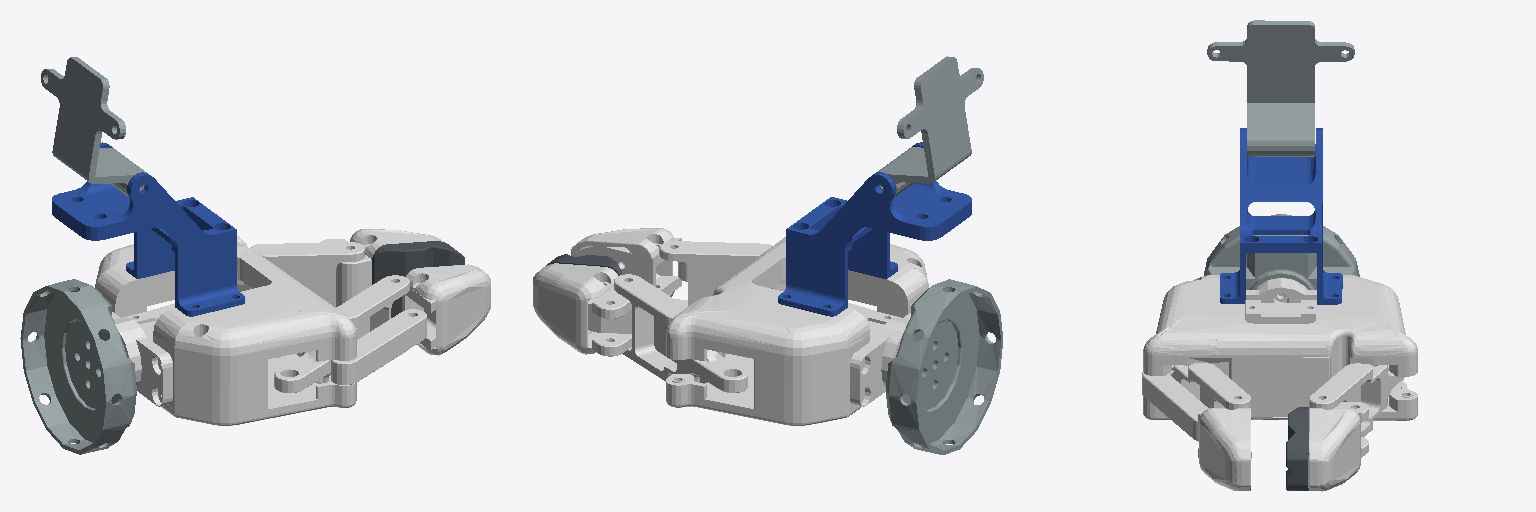
The robot description file, URDF, robot "pincopen":
<?xml version="1.0" ?>
<robot name="pincopen">
    <link name="Bottom_Plate">
        <inertial>
            <mass value="2.64077e-05" />
            <origin xyz="-0.0285975 -3.86746e-05 -0.00842464" rpy="0 -0 0" />
            <inertia ixx="1.66707e-08" ixy="-2.32762e-10" ixz="3.50141e-10" iyy="9.68705e-09" iyz="2.44722e-12" izz="2.54703e-08" />
        </inertial>
        <visual>
            <origin xyz="0 0 0" rpy="0 -0 0" />
            <geometry>
                <mesh filename="package://pincopen/meshes/107.stl" scale="1 1 1" />
            </geometry>
            <material name="0.901961_0.901961_0.901961_0.000000_0.000000">
                <texture />
                <color rgba="0.901961 0.901961 0.901961 1" />
            </material>
        </visual>
    </link>
    <link name="Cam">
        <inertial>
            <mass value="4.57688e-06" />
            <origin xyz="-9.28675e-06 -1.26037e-06 0.00337664" rpy="0 -0 0" />
            <inertia ixx="3.23524e-10" ixy="5.23411e-12" ixz="-1.82883e-13" iyy="3.37156e-10" iyz="-1.62277e-15" izz="6.28236e-10" />
        </inertial>
        <visual>
            <origin xyz="0.0180424 -1.68389e-19 0.0024" rpy="0 -0 0" />
            <geometry>
                <mesh filename="package://pincopen/meshes/59.stl" scale="1 1 1" />
            </geometry>
            <material name="0.901961_0.901961_0.901961_0.000000_0.000000">
                <texture />
                <color rgba="0.901961 0.901961 0.901961 1" />
            </material>
        </visual>
    </link>
    <link name="Camera_basement">
        <inertial>
            <mass value="1.03417e-05" />
            <origin xyz="-0.0227674 -0.01891 0.026605" rpy="0 -0 0" />
            <inertia ixx="2.7023e-09" ixy="0" ixz="1.26307e-09" iyy="3.70962e-09" iyz="0" izz="3.44793e-09" />
        </inertial>
        <visual>
            <origin xyz="0.0262674 -0.01891 -0.0195" rpy="0 -0 0" />
            <geometry>
                <mesh filename="package://pincopen/meshes/115.stl" scale="1 1 1" />
            </geometry>
            <material name="0.231373_0.380392_0.705882_0.000000_0.000000">
                <texture />
                <color rgba="0.231373 0.380392 0.705882 1" />
            </material>
        </visual>
    </link>
    <link name="Camera_mount_V1">
        <inertial>
            <mass value="4.99029e-06" />
            <origin xyz="-0.0118 -0.0113361 0.0107692" rpy="0 -0 0" />
            <inertia ixx="1.12849e-09" ixy="0" ixz="0" iyy="1.08544e-09" iyz="4.03343e-10" izz="7.36976e-10" />
        </inertial>
        <visual>
            <origin xyz="-0.0236 -0.0178508 0.00417309" rpy="0 -0 0" />
            <geometry>
                <mesh filename="package://pincopen/meshes/91.stl" scale="1 1 1" />
            </geometry>
            <material name="0.611765_0.658824_0.670588_0.000000_0.000000">
                <texture />
                <color rgba="0.611765 0.658824 0.670588 1" />
            </material>
        </visual>
    </link>
    <link name="Distal_Rod">
        <inertial>
            <mass value="2.94447e-06" />
            <origin xyz="0.00258376 -0.00352926 -0.0086" rpy="0 -0 0" />
            <inertia ixx="1.48021e-10" ixy="-4.56607e-12" ixz="0" iyy="1.31579e-10" iyz="0" izz="1.29893e-10" />
        </inertial>
        <visual>
            <origin xyz="-0.034641 0.0125 -0.0086" rpy="0 -0 0" />
            <geometry>
                <mesh filename="package://pincopen/meshes/63.stl" scale="1 1 1" />
            </geometry>
            <material name="0.901961_0.901961_0.901961_0.000000_0.000000">
                <texture />
                <color rgba="0.901961 0.901961 0.901961 1" />
            </material>
        </visual>
    </link>
    <link name="Distal_Rod_1">
        <inertial>
            <mass value="2.94447e-06" />
            <origin xyz="0.00258376 -0.00352926 0.0086" rpy="0 -0 0" />
            <inertia ixx="1.48021e-10" ixy="-4.56607e-12" ixz="0" iyy="1.31579e-10" iyz="0" izz="1.29893e-10" />
        </inertial>
        <visual>
            <origin xyz="-0.034641 0.0125 0.0086" rpy="0 -0 0" />
            <geometry>
                <mesh filename="package://pincopen/meshes/71.stl" scale="1 1 1" />
            </geometry>
            <material name="0.901961_0.901961_0.901961_0.000000_0.000000">
                <texture />
                <color rgba="0.901961 0.901961 0.901961 1" />
            </material>
        </visual>
    </link>
    <link name="Distal_Shell">
        <inertial>
            <mass value="2.99979e-06" />
            <origin xyz="0.0114078 -0.00154986 0.0087724" rpy="0 -0 0" />
            <inertia ixx="2.91332e-10" ixy="-4.3648e-11" ixz="-4.43435e-13" iyy="4.19946e-10" iyz="1.23129e-13" izz="2.76829e-10" />
        </inertial>
        <visual>
            <origin xyz="-0.042891 0.01475 0.0088" rpy="0 -0 0" />
            <geometry>
                <mesh filename="package://pincopen/meshes/67.stl" scale="1 1 1" />
            </geometry>
            <material name="0.901961_0.901961_0.901961_0.000000_0.000000">
                <texture />
                <color rgba="0.901961 0.901961 0.901961 1" />
            </material>
        </visual>
    </link>
    <link name="Distal_Shell_1">
        <inertial>
            <mass value="2.99979e-06" />
            <origin xyz="0.0114078 -0.00154986 -0.0088276" rpy="0 -0 0" />
            <inertia ixx="2.91332e-10" ixy="-4.3648e-11" ixz="-4.43435e-13" iyy="4.19946e-10" iyz="1.23129e-13" izz="2.76829e-10" />
        </inertial>
        <visual>
            <origin xyz="-0.042891 0.01475 -0.0088" rpy="0 -0 0" />
            <geometry>
                <mesh filename="package://pincopen/meshes/75.stl" scale="1 1 1" />
            </geometry>
            <material name="0.901961_0.901961_0.901961_0.000000_0.000000">
                <texture />
                <color rgba="0.901961 0.901961 0.901961 1" />
            </material>
        </visual>
    </link>
    <link name="External_Rod">
        <inertial>
            <mass value="3.24652e-06" />
            <origin xyz="0.0173205 0.01 0.004" rpy="0 -0 0" />
            <inertia ixx="1.76941e-10" ixy="-2.38948e-10" ixz="0" iyy="4.52855e-10" iyz="0" izz="5.95358e-10" />
        </inertial>
        <visual>
            <origin xyz="-5.85469e-18 0.044 0.004" rpy="0 -0 0" />
            <geometry>
                <mesh filename="package://pincopen/meshes/79.stl" scale="1 1 1" />
            </geometry>
            <material name="0.901961_0.901961_0.901961_0.000000_0.000000">
                <texture />
                <color rgba="0.901961 0.901961 0.901961 1" />
            </material>
        </visual>
    </link>
    <link name="External_Rod_1">
        <inertial>
            <mass value="3.24652e-06" />
            <origin xyz="0.0173205 0.01 0.004" rpy="0 -0 0" />
            <inertia ixx="1.76941e-10" ixy="-2.38948e-10" ixz="0" iyy="4.52855e-10" iyz="0" izz="5.95358e-10" />
        </inertial>
        <visual>
            <origin xyz="-5.85469e-18 0.044 0.004" rpy="0 -0 0" />
            <geometry>
                <mesh filename="package://pincopen/meshes/119.stl" scale="1 1 1" />
            </geometry>
            <material name="0.901961_0.901961_0.901961_0.000000_0.000000">
                <texture />
                <color rgba="0.901961 0.901961 0.901961 1" />
            </material>
        </visual>
    </link>
    <link name="Hand_adaptor_plate">
        <inertial>
            <mass value="1.31786e-05" />
            <origin xyz="8.42872e-10 7.36259e-14 0.00908637" rpy="0 -0 0" />
            <inertia ixx="2.70924e-09" ixy="0" ixz="0" iyy="2.70924e-09" iyz="0" izz="5.07111e-09" />
        </inertial>
        <visual>
            <origin xyz="0 0 0.0022" rpy="0 -0 0" />
            <geometry>
                <mesh filename="package://pincopen/meshes/111.stl" scale="1 1 1" />
            </geometry>
            <material name="0.611765_0.658824_0.670588_0.000000_0.000000">
                <texture />
                <color rgba="0.611765 0.658824 0.670588 1" />
            </material>
        </visual>
    </link>
    <link name="Interface_ARM100">
        <inertial>
            <mass value="4.50805e-06" />
            <origin xyz="-0.00310064 -0.022 -0.0056" rpy="0 -0 0" />
            <inertia ixx="8.39871e-10" ixy="0" ixz="0" iyy="1.80669e-10" iyz="0" izz="6.98926e-10" />
        </inertial>
        <visual>
            <origin xyz="0.0534924 -0.022 -0.0056" rpy="0 -0 0" />
            <geometry>
                <mesh filename="package://pincopen/meshes/87.stl" scale="1 1 1" />
            </geometry>
            <material name="0.901961_0.901961_0.901961_0.000000_0.000000">
                <texture />
                <color rgba="0.901961 0.901961 0.901961 1" />
            </material>
        </visual>
    </link>
    <link name="Internal_Rod">
        <inertial>
            <mass value="5.56038e-06" />
            <origin xyz="0.0101857 0.0065898 -0.008" rpy="0 -0 0" />
            <inertia ixx="7.4517e-10" ixy="-6.80859e-10" ixz="0" iyy="1.47198e-09" iyz="0" izz="1.63473e-09" />
        </inertial>
        <visual>
            <origin xyz="0 0.0325 -0.008" rpy="0 -0 0" />
            <geometry>
                <mesh filename="package://pincopen/meshes/103.stl" scale="1 1 1" />
            </geometry>
            <material name="0.901961_0.901961_0.901961_0.000000_0.000000">
                <texture />
                <color rgba="0.901961 0.901961 0.901961 1" />
            </material>
        </visual>
    </link>
    <link name="Internal_Rod_1">
        <inertial>
            <mass value="5.56038e-06" />
            <origin xyz="0.0101857 0.0065898 0.008" rpy="0 -0 0" />
            <inertia ixx="7.4517e-10" ixy="-6.80859e-10" ixz="0" iyy="1.47198e-09" iyz="0" izz="1.63473e-09" />
        </inertial>
        <visual>
            <origin xyz="0 0.0325 0.008" rpy="0 -0 0" />
            <geometry>
                <mesh filename="package://pincopen/meshes/103.stl" scale="1 1 1" />
            </geometry>
            <material name="0.901961_0.901961_0.901961_0.000000_0.000000">
                <texture />
                <color rgba="0.901961 0.901961 0.901961 1" />
            </material>
        </visual>
    </link>
    <link name="Removable_Tip">
        <inertial>
            <mass value="2.43081e-06" />
            <origin xyz="0.00745849 0.0018564 0.0049" rpy="0 -0 0" />
            <inertia ixx="1.32566e-10" ixy="-4.39011e-11" ixz="0" iyy="2.28981e-10" iyz="0" izz="2.04701e-10" />
        </inertial>
        <visual>
            <origin xyz="-0.042891 0.01475 0.0049" rpy="0 -0 0" />
            <geometry>
                <mesh filename="package://pincopen/meshes/83.stl" scale="1 1 1" />
            </geometry>
            <material name="0.901961_0.901961_0.901961_0.000000_0.000000">
                <texture />
                <color rgba="0.901961 0.901961 0.901961 1" />
            </material>
        </visual>
    </link>
    <link name="Removable_Tip_1">
        <inertial>
            <mass value="2.43081e-06" />
            <origin xyz="0.00745849 0.0018564 -0.0049" rpy="0 -0 0" />
            <inertia ixx="1.32566e-10" ixy="-4.39011e-11" ixz="0" iyy="2.28981e-10" iyz="0" izz="2.04701e-10" />
        </inertial>
        <visual>
            <origin xyz="-0.042891 0.01475 -0.0049" rpy="0 -0 0" />
            <geometry>
                <mesh filename="package://pincopen/meshes/123.stl" scale="1 1 1" />
            </geometry>
            <material name="0.901961_0.901961_0.901961_0.000000_0.000000">
                <texture />
                <color rgba="0.901961 0.901961 0.901961 1" />
            </material>
        </visual>
    </link>
    <link name="Tip_Support">
        <inertial>
            <mass value="4.01227e-06" />
            <origin xyz="0.00385164 0.0032358 0.00350015" rpy="0 -0 0" />
            <inertia ixx="1.88606e-10" ixy="-1.05379e-11" ixz="6.06891e-15" iyy="4.29106e-10" iyz="0" izz="2.7268e-10" />
        </inertial>
        <visual>
            <origin xyz="-0.051641 0.00775 0.0035" rpy="0 -0 0" />
            <geometry>
                <mesh filename="package://pincopen/meshes/95.stl" scale="1 1 1" />
            </geometry>
            <material name="0.349020_0.376471_0.400000_0.000000_0.000000">
                <texture />
                <color rgba="0.34902 0.376471 0.4 1" />
            </material>
        </visual>
    </link>
    <link name="Tip_Support_1">
        <inertial>
            <mass value="4.01227e-06" />
            <origin xyz="0.00385164 0.0032358 -0.00349985" rpy="0 -0 0" />
            <inertia ixx="1.88606e-10" ixy="-1.05379e-11" ixz="6.06891e-15" iyy="4.29106e-10" iyz="0" izz="2.7268e-10" />
        </inertial>
        <visual>
            <origin xyz="-0.051641 0.00775 -0.0035" rpy="0 -0 0" />
            <geometry>
                <mesh filename="package://pincopen/meshes/99.stl" scale="1 1 1" />
            </geometry>
            <material name="0.349020_0.376471_0.400000_0.000000_0.000000">
                <texture />
                <color rgba="0.34902 0.376471 0.4 1" />
            </material>
        </visual>
    </link>
    <link name="Top_Plate">
        <inertial>
            <mass value="4.1723e-05" />
            <origin xyz="-0.0250553 -0.0219874 0.0121429" rpy="0 -0 0" />
            <inertia ixx="3.18172e-08" ixy="4.00954e-10" ixz="-1.11237e-09" iyy="1.34468e-08" iyz="2.37512e-12" izz="4.33741e-08" />
        </inertial>
        <visual>
            <origin xyz="4.24018e-05 -0.022 0" rpy="0 -0 0" />
            <geometry>
                <mesh filename="package://pincopen/meshes/127.stl" scale="1 1 1" />
            </geometry>
            <material name="0.901961_0.901961_0.901961_0.000000_0.000000">
                <texture />
                <color rgba="0.901961 0.901961 0.901961 1" />
            </material>
        </visual>
    </link>
    <link name="root" />
    
    <joint name="Fastened 11_0" type="fixed">
        <origin xyz="-0.026225 -0.00309 0.0195" rpy="0 0 -2.3332e-16" />
        <axis xyz="0 0 1" />
        <parent link="Top_Plate" />
        <child link="Camera_basement" />
    </joint>
    <joint name="Fastened 12_0" type="fixed">
        <origin xyz="-0.05345 3.46945e-18 0.0056" rpy="0 -0 0" />
        <axis xyz="1 0 0" />
        <parent link="Top_Plate" />
        <child link="Interface_ARM100" />
    </joint>
    <joint name="Fastened 13_0" type="fixed">
        <origin xyz="-0.00711658 -0.022 -0.0056" rpy="0 1.5708 3.14159" />
        <axis xyz="0 0 -1" />
        <parent link="Interface_ARM100" />
        <child link="Hand_adaptor_plate" />
    </joint>
    <joint name="Fastened 14_0" type="fixed">
        <origin xyz="-0.031885 -0.03091 0.0462" rpy="-0.174533 8.74301e-16 -1.5708" />
        <axis xyz="1 0 0" />
        <parent link="Camera_basement" />
        <child link="Camera_mount_V1" />
    </joint>
    <joint name="Fastened 1_0" type="fixed">
        <origin xyz="0.00825 -0.00225 -0.0038" rpy="1.61527e-33 -7.28135e-31 -2.75474e-15" />
        <axis xyz="0 0 -1" />
        <parent link="Distal_Rod" />
        <child link="Removable_Tip_1" />
    </joint>
    <joint name="Fastened 3_0" type="fixed">
        <origin xyz="0.00875 0.007 -0.0014" rpy="-6.13068e-46 9.40395e-38 -5.29091e-17" />
        <axis xyz="5.29687e-17 -1 0" />
        <parent link="Removable_Tip_1" />
        <child link="Tip_Support_1" />
    </joint>
    <joint name="Fastened 4_0" type="fixed">
        <origin xyz="6.93889e-18 0 0.0037" rpy="1.3954e-32 -2.47818e-16 -8.67362e-19" />
        <axis xyz="-2.47818e-16 -1.39803e-32 -1" />
        <parent link="Removable_Tip_1" />
        <child link="Distal_Shell_1" />
    </joint>
    <joint name="Fastened 5_0" type="fixed">
        <origin xyz="0.00825 -0.00225 0.0038" rpy="-2.58845e-31 -9.86076e-32 2.23346e-16" />
        <axis xyz="0 0 -1" />
        <parent link="Distal_Rod_1" />
        <child link="Removable_Tip" />
    </joint>
    <joint name="Fastened 7_0" type="fixed">
        <origin xyz="0.00875 0.007 0.0014" rpy="1.2326e-32 -4.93038e-32 -5.33427e-17" />
        <axis xyz="-5.29687e-17 1 0" />
        <parent link="Removable_Tip" />
        <child link="Tip_Support" />
    </joint>
    <joint name="Fastened 8_0" type="fixed">
        <origin xyz="1.73472e-18 -1.04083e-17 -0.0037" rpy="-5.37369e-35 2.47818e-16 -4.33681e-19" />
        <axis xyz="-2.47818e-16 -1.39803e-32 1" />
        <parent link="Removable_Tip" />
        <child link="Distal_Shell" />
    </joint>
    <joint name="Fastened 9_0" type="fixed">
        <origin xyz="-4.24018e-05 0.022 3.46945e-18" rpy="0 -0 0" />
        <axis xyz="0 0 1" />
        <parent link="Bottom_Plate" />
        <child link="Top_Plate" />
    </joint>
    <joint name="fixed_node_to_root_joint_0" type="fixed">
        <origin xyz="-0.0344723 -0.000941051 0.0215543" rpy="0 0 -0.00444985" />
        <axis xyz="0 0 1" />
        <parent link="root" />
        <child link="Bottom_Plate" />
    </joint>

    <joint name="cam_joint" type="revolute">
        <origin xyz="-0.0180424 2.60209e-18 -0.0035" rpy="6.47546e-16 7.23081e-16 -1.50657" />
        <axis xyz="0 0 -1" />
        <parent link="Bottom_Plate" />
        <child link="Cam" />
        <limit effort="10" velocity="2.0" lower="-0.57" upper="0.0" />
    </joint>

    <joint name="Revolute 2_0" type="revolute">
        <origin xyz="-6.93889e-18 -0.0325 -0.0088" rpy="1.18038e-16 2.71062e-16 -0.0642296" />
        <axis xyz="0 0 -1" />
        <parent link="Bottom_Plate" />
        <child link="Internal_Rod_1" />
        <mimic joint="cam_joint" multiplier="-1.0" offset="0" />
        <limit effort="10" velocity="2.0" lower="-1.57" upper="1.57" />
    </joint>
    
    <joint name="Revolute 4_0" type="revolute">
        <origin xyz="6.93889e-18 -0.044 -0.0042" rpy="2.50273e-31 -1.62999e-30 -0.0642296" />
        <axis xyz="0 0 1" />
        <parent link="Bottom_Plate" />
        <child link="External_Rod_1" />
        <mimic joint="cam_joint" multiplier="1.0" offset="0" />
        <limit effort="10" velocity="2.0" lower="-1.57" upper="1.57" />
    </joint>

    <joint name="Revolute 5_0" type="revolute">
        <origin xyz="0.034641 0.02 0.0165" rpy="-1.35194e-16 -2.62928e-16 0.0642296" />
        <axis xyz="0 0 1" />
        <parent link="Internal_Rod_1" />
        <child link="Distal_Rod" />
        <mimic joint="cam_joint" multiplier="-1.0" offset="0" />
        <limit effort="10" velocity="2.0" lower="-1.57" upper="1.57" />
    </joint>

    <joint name="Revolute 3_0" type="revolute">
        <origin xyz="-6.93889e-18 0.0325 -0.0088" rpy="3.14159 2.74963e-16 0.0642296" />
        <axis xyz="0 0 1" />
        <parent link="Bottom_Plate" />
        <child link="Internal_Rod" />
        <mimic joint="cam_joint" multiplier="1.0" offset="0" />
        <limit effort="10" velocity="2.0" lower="-1.57" upper="1.57" />
    </joint>

    <joint name="Revolute 6_0" type="revolute">
        <origin xyz="6.93889e-18 0.044 -0.0042" rpy="-3.01726e-16 2.73219e-17 -0.982968" />
        <axis xyz="0 0 1" />
        <parent link="Bottom_Plate" />
        <child link="External_Rod" />
        <mimic joint="cam_joint" multiplier="-1.0" offset="0" />
        <limit effort="10" velocity="2.0" lower="-1.57" upper="1.57" />
    </joint>

    <joint name="Revolute 7_0" type="revolute">
        <origin xyz="0.034641 0.02 -0.0165" rpy="2.46519e-32 -7.91963e-34 0.0642296" />
        <axis xyz="0 0 -1" />
        <parent link="Internal_Rod" />
        <child link="Distal_Rod_1" />
        <mimic joint="cam_joint" multiplier="1.0" offset="0" />
        <limit effort="10" velocity="2.0" lower="-1.57" upper="1.57" />
    </joint>

</robot>

--- Facts derived from the render (not from the file) ---
The picture shows the robot from 3 angles, left to right: view 1: azimuth 30°, elevation 25°; view 2: azimuth 150°, elevation 25°; view 3: azimuth 270°, elevation 25°; orthographic projection.
Model pincopen with 20 links and 19 joints (7 revolute, 12 fixed), rooted at root, posed every joint at zero.
Visible links, largest first — view 1: Top_Plate, Hand_adaptor_plate, Camera_basement, Camera_mount_V1, Bottom_Plate, Distal_Shell_1, Internal_Rod_1, Internal_Rod, External_Rod_1, Interface_ARM100, Tip_Support, Distal_Rod_1 (+2 smaller); view 2: Top_Plate, Hand_adaptor_plate, Camera_basement, Camera_mount_V1, Bottom_Plate, Internal_Rod, Distal_Shell, Internal_Rod_1, Interface_ARM100, Distal_Rod_1, Distal_Shell_1, Removable_Tip_1 (+1 smaller); view 3: Top_Plate, Camera_mount_V1, Camera_basement, Bottom_Plate, Hand_adaptor_plate, Distal_Shell, Distal_Shell_1, Internal_Rod, Internal_Rod_1, External_Rod_1, Tip_Support, Interface_ARM100.
Link boxes in pixels (x1,y1,x2,y2): Top_Plate: (95, 236, 356, 390); Hand_adaptor_plate: (20, 279, 136, 454); Camera_basement: (52, 142, 244, 316); Camera_mount_V1: (41, 57, 146, 196); Bottom_Plate: (148, 303, 356, 425); Distal_Shell_1: (406, 264, 490, 355); Internal_Rod_1: (274, 275, 409, 392); Internal_Rod: (251, 242, 364, 307); External_Rod_1: (331, 309, 426, 384); Interface_ARM100: (112, 312, 172, 406); Tip_Support: (372, 241, 464, 317); Distal_Rod_1: (320, 239, 371, 306); Top_Plate: (666, 237, 928, 390); Hand_adaptor_plate: (886, 279, 1002, 454); Camera_basement: (778, 142, 971, 316); Camera_mount_V1: (876, 56, 983, 196); Bottom_Plate: (666, 303, 875, 425); Internal_Rod: (614, 274, 747, 392); Distal_Shell: (533, 263, 617, 354); Internal_Rod_1: (659, 241, 771, 306); Interface_ARM100: (850, 313, 910, 406); Distal_Rod_1: (588, 287, 631, 356); Distal_Shell_1: (571, 228, 674, 296); Removable_Tip_1: (576, 238, 681, 294); Top_Plate: (1143, 275, 1417, 378); Camera_mount_V1: (1207, 20, 1354, 156); Camera_basement: (1220, 128, 1342, 304); Bottom_Plate: (1143, 357, 1417, 420); Hand_adaptor_plate: (1204, 214, 1359, 295); Distal_Shell: (1308, 408, 1360, 491); Distal_Shell_1: (1199, 407, 1250, 490); Internal_Rod: (1309, 363, 1404, 437); Internal_Rod_1: (1168, 363, 1251, 458); External_Rod_1: (1142, 372, 1208, 441); Tip_Support: (1286, 407, 1308, 490); Interface_ARM100: (1246, 278, 1316, 302).
Size in the robot's own frame: 0.152 by 0.0965 by 0.1344 metres.
15 mesh visuals loaded from 18 distinct referenced files (14 binary STL); not drawn: 4 (reference not matched to a file when rendering).
